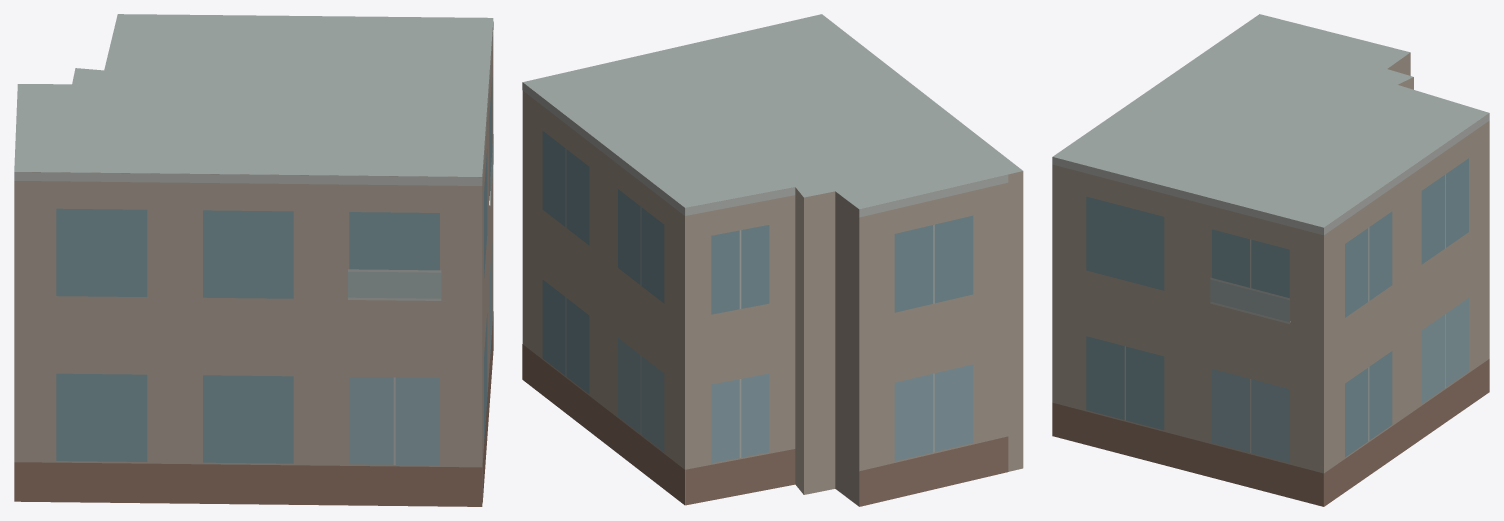
The model's file is survey-upis-33020846.glb.
3 views of the same model, side by side, from view 1: azimuth 30°, elevation 25°; view 2: azimuth 150°, elevation 25°; view 3: azimuth 270°, elevation 25° (orthographic). The views are drawn at different scales.
Visible parts, largest first — view 1: survey-upis-33020846.tmp; view 2: survey-upis-33020846.tmp; view 3: survey-upis-33020846.tmp.
Part boxes in pixels (left/top/right/bottom): survey-upis-33020846.tmp: left=14, top=14, right=493, bottom=506; survey-upis-33020846.tmp: left=522, top=14, right=1023, bottom=506; survey-upis-33020846.tmp: left=1052, top=14, right=1489, bottom=506.
Size of the model in its own units: 14.61 by 8.9 by 12.64.
